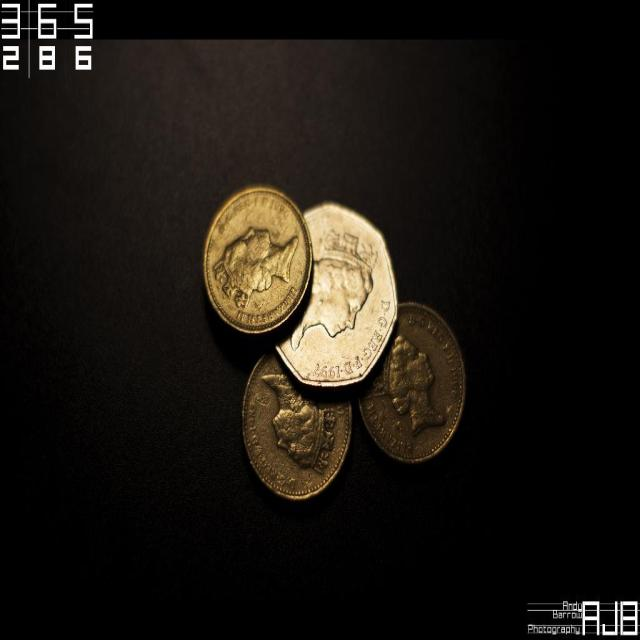Coin: (196, 185, 470, 504), (198, 188, 311, 343)
